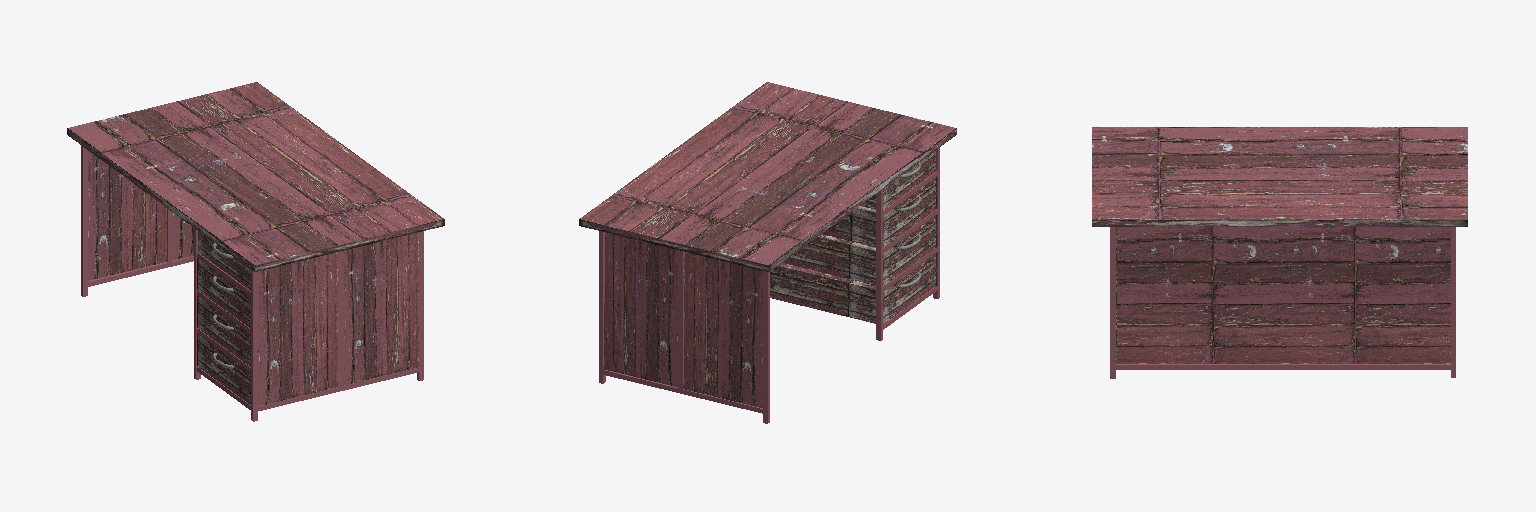
3 views of the same model, side by side, from view 1: azimuth 30°, elevation 25°; view 2: azimuth 150°, elevation 25°; view 3: azimuth 270°, elevation 25° (orthographic).
Parts seen in each view (by area): view 1: polySurface47; view 2: polySurface47; view 3: polySurface47.
Boxes of the visible parts, x1,y1,x2,y2 form: polySurface47: [67, 82, 444, 421]; polySurface47: [579, 82, 956, 423]; polySurface47: [1092, 127, 1467, 378].
Bounding box in the file's own units: 5.79 × 4.8 × 9.92.
8 materials, 6 textured.